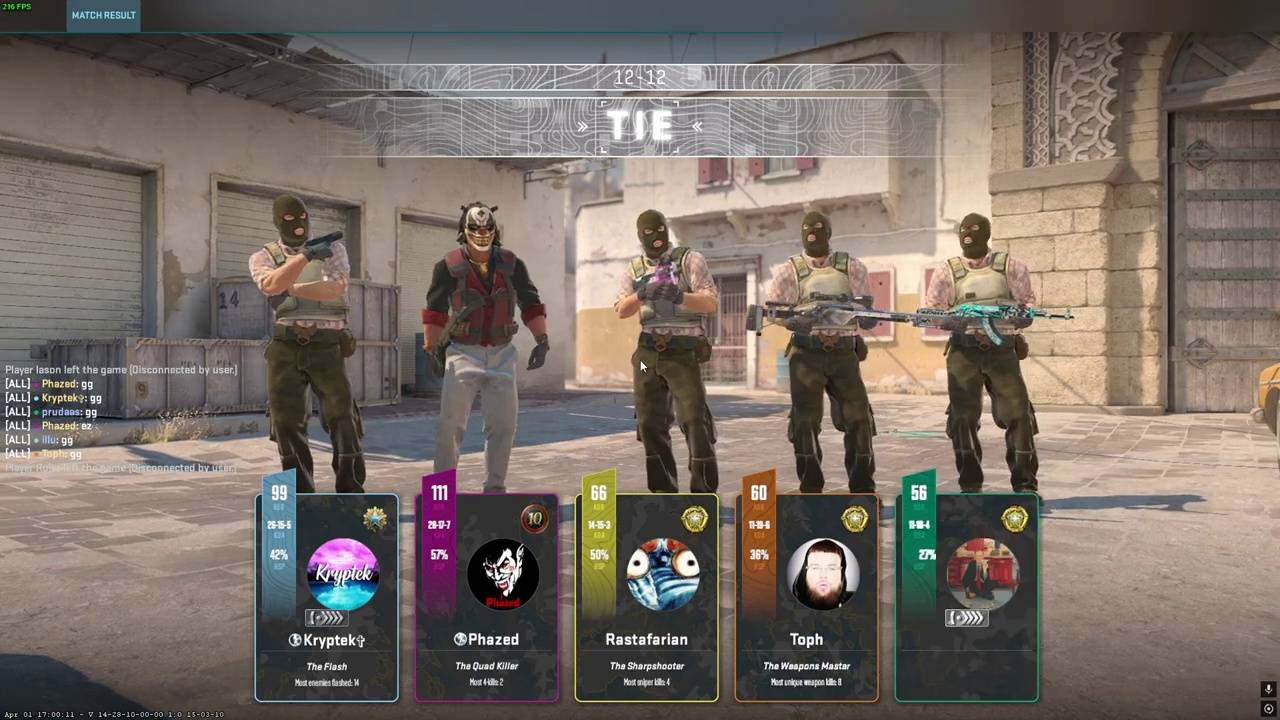Terrorist: (255, 196, 360, 494), (929, 212, 1039, 494), (777, 211, 877, 494), (431, 202, 528, 493), (624, 209, 718, 493)
